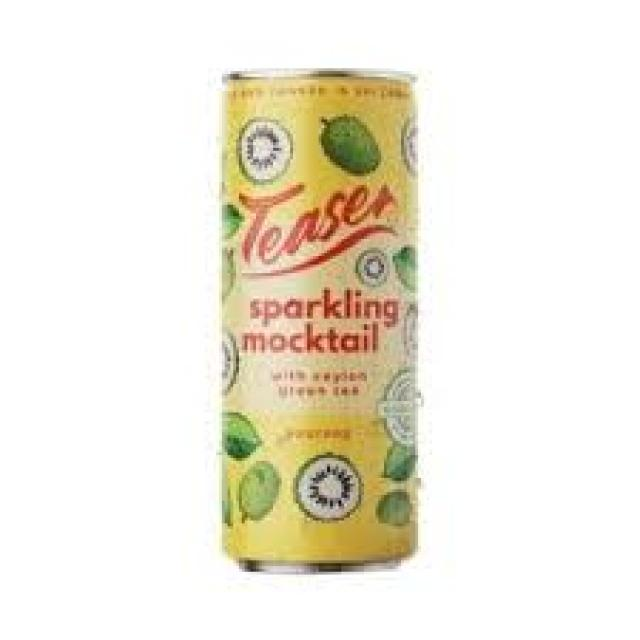Cans: (205, 54, 429, 580)
